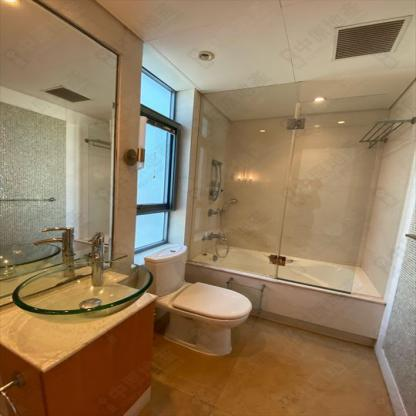Bathtub: (190, 244, 386, 347)
Faucet: (43, 224, 109, 262)
Toilet: (142, 241, 250, 356)
Toilet Sink: (10, 261, 152, 322)
Water Cubicle: (188, 81, 412, 298)
